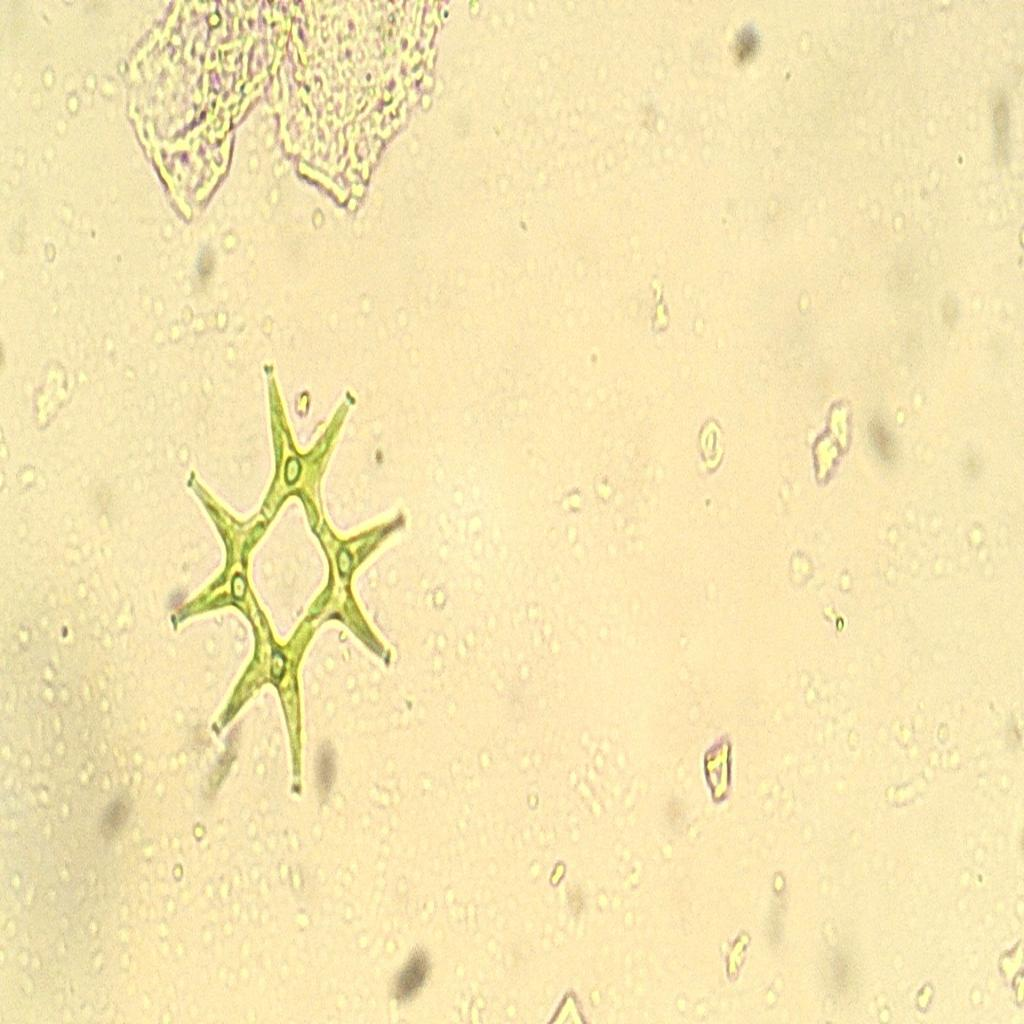Pediastrum_75O: (158, 346, 420, 828)
